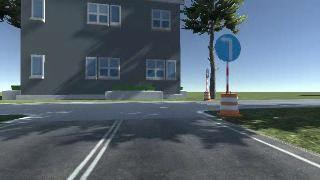turn_left: (214, 35, 241, 61)
